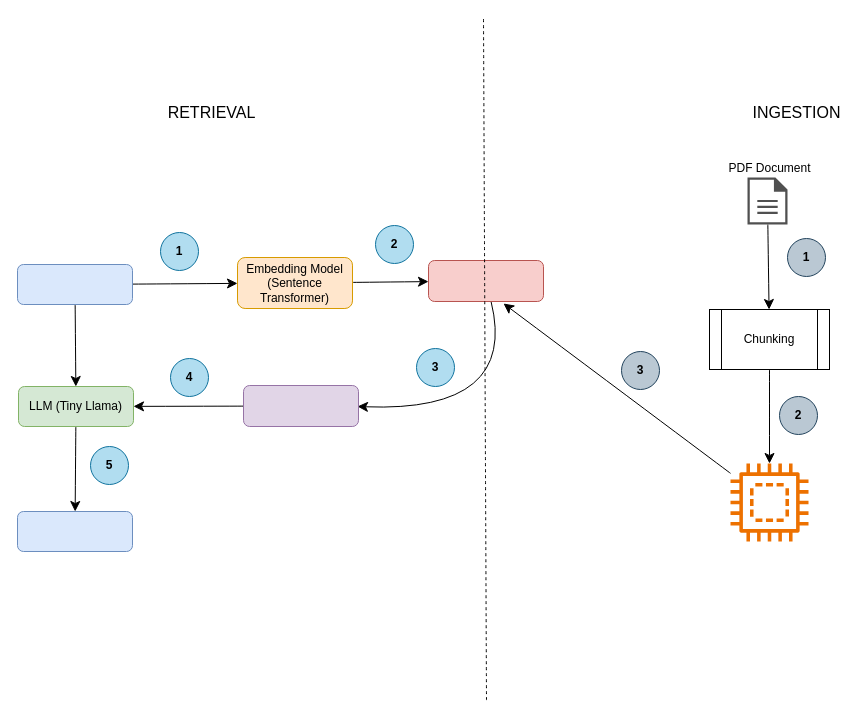
This 867x718 diagram has some shape labels left out. Here are the shapes that lost their labels. From the top down, the box of each, then its label:
(16, 264, 132, 304): Query
(428, 260, 544, 302): Pinecone Vector DB
(242, 384, 358, 426): Retrieved Context
(730, 463, 808, 541): Embeddings
(16, 510, 132, 552): Response
